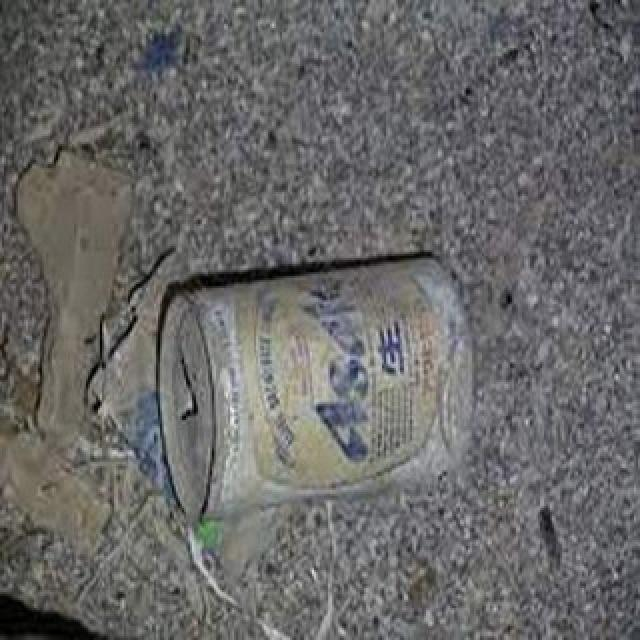recyclable: (150, 248, 482, 516)
